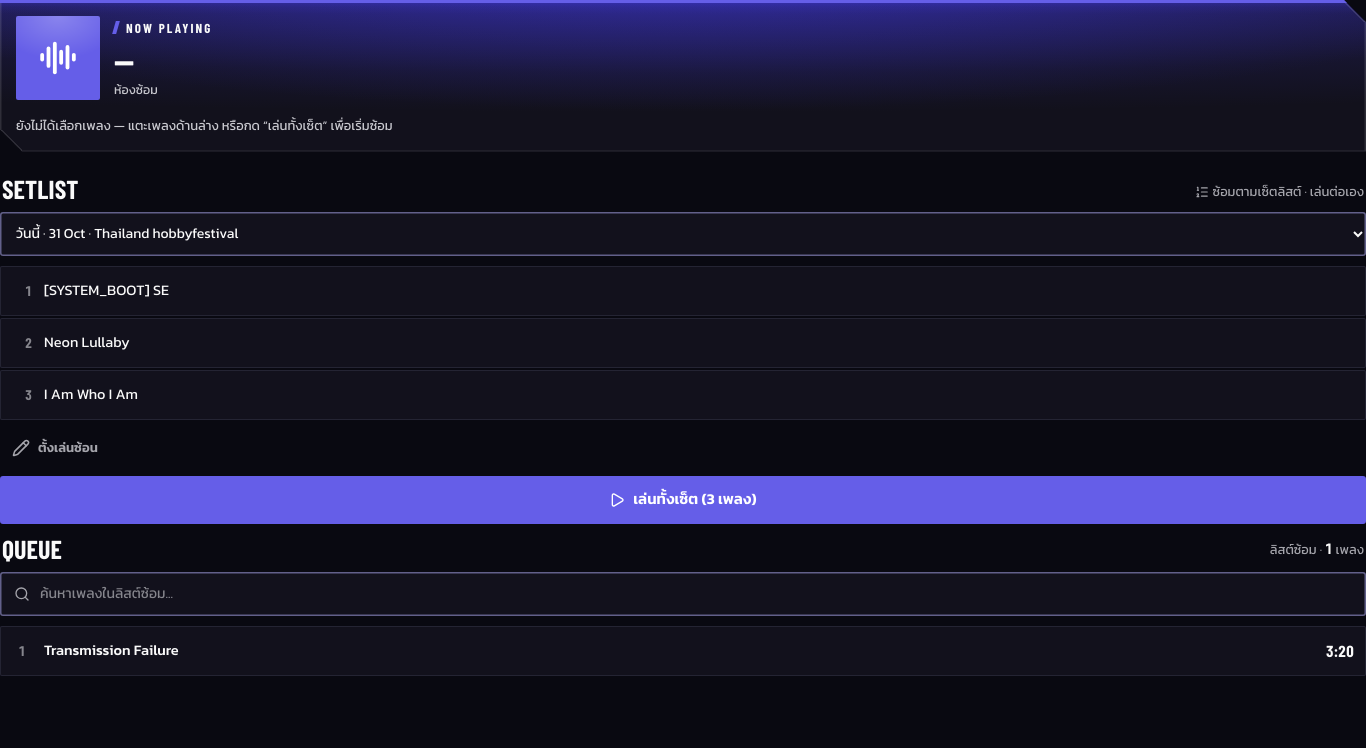
Test: PracticePlayer — a positive เข้าหลังเพลงก่อนหน้า waits › from 0, + makes a wait (it used to stop at 0)
Expected: the button "เล่นทั้งเซ็ต (3 เพลง)" is shown, [0,476,1365,524]
Click the button "ตั้งเล่นซ้อน" at (55, 448), box [0,430,110,466]
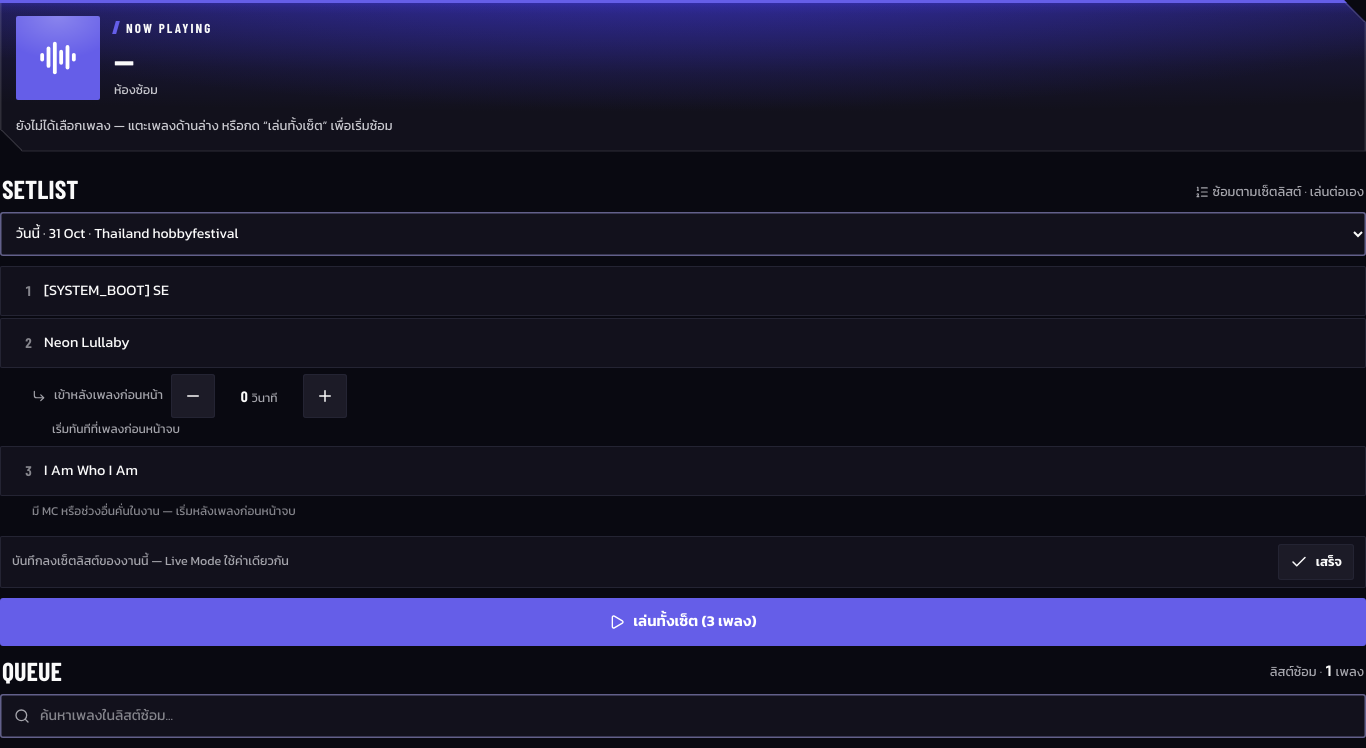
Now the button named "เข้าช้าลง · Neon Lullaby" is enabled
Click the button named "เข้าช้าลง · Neon Lullaby" at (325, 396), box [303,374,347,418]
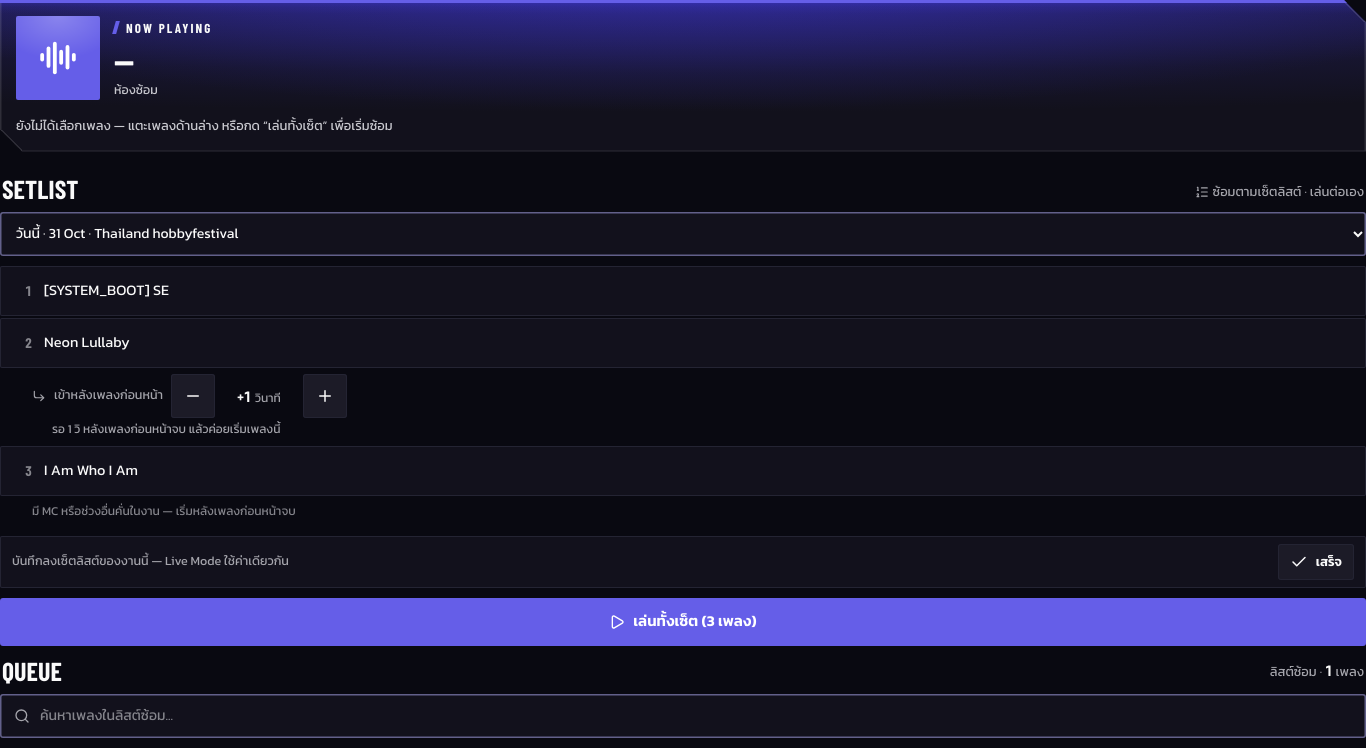
Now the element named "เข้าหลังเพลงก่อนหน้า · Neon Lullaby 1 วินาที" is shown, box [237,386,281,406]
